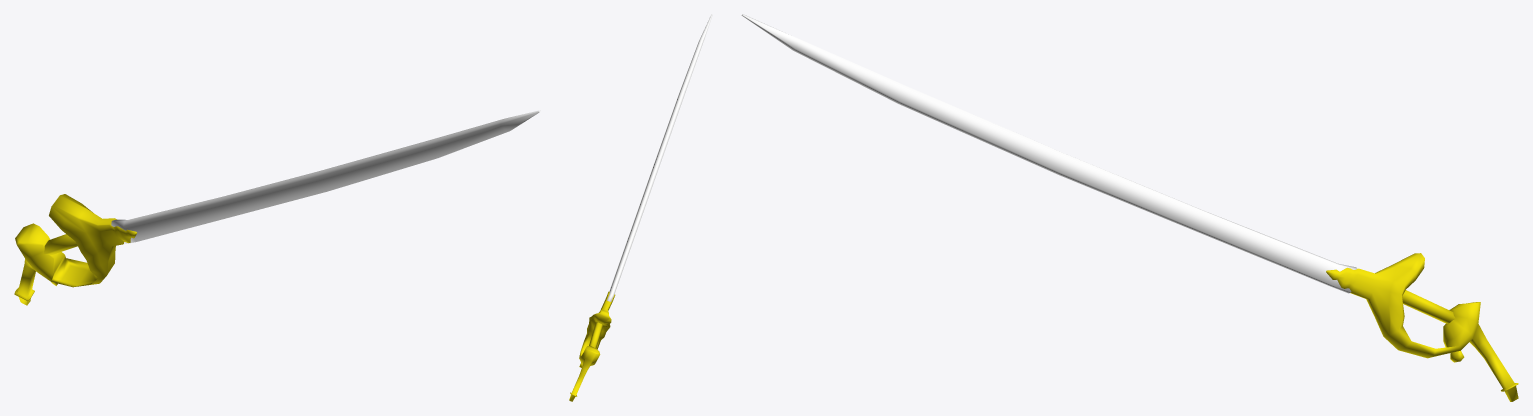
Rendered from sword.glb.
3 renders of one model, left to right at view 1: azimuth 30°, elevation 25°; view 2: azimuth 150°, elevation 25°; view 3: azimuth 270°, elevation 25°, orthographic. The views are drawn at different scales.
Visible parts, largest first — view 1: sword; view 2: sword; view 3: sword.
Part boxes in pixels (<box>): sword: <box>14,110,540,305</box>; sword: <box>569,14,712,401</box>; sword: <box>741,14,1518,401</box>.
Size of the model in its own units: 0.2144 by 0.6215 by 0.9892.
